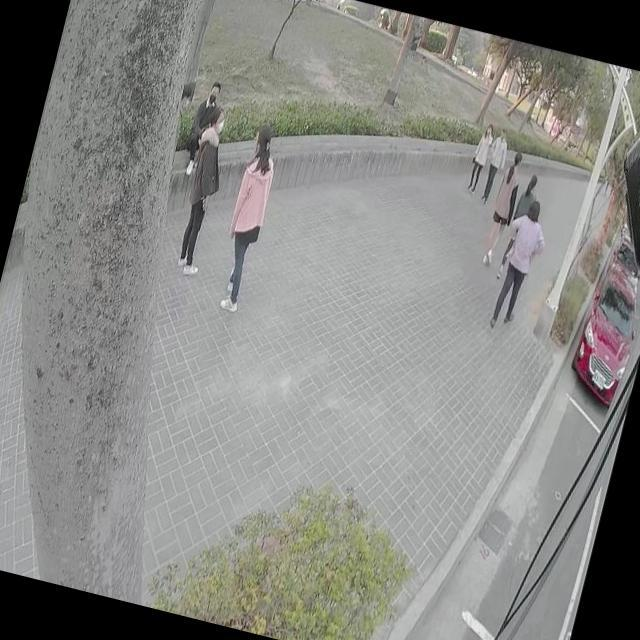person: (210, 121, 288, 312), (170, 104, 236, 276), (486, 194, 553, 327), (480, 151, 524, 267), (183, 79, 223, 175), (464, 122, 496, 194), (482, 126, 512, 200), (167, 76, 194, 148), (512, 171, 542, 226)
